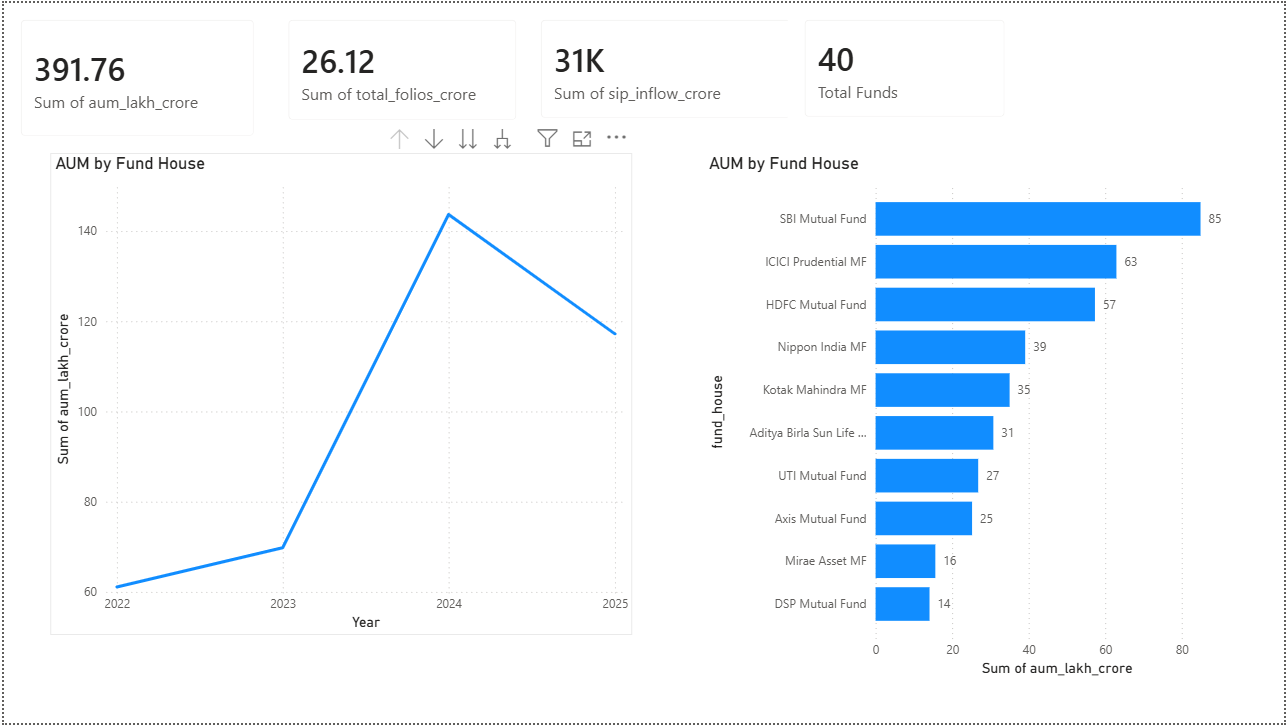

What the dashboard file says about the page in this screenshot:
{"tool":"powerbi","page":{"name":"Industry Overview","canvas":[1280,720],"ordinal":0},"visuals":[{"type":"cardVisual","fields":{"Data":["Sum(03_aum_by_fund_house.aum_lakh_crore)"]},"box":[0,0,267.1,150],"z":0},{"type":"cardVisual","fields":{"Data":["Sum(04_monthly_sip_inflows.sip_inflow_crore)"]},"box":[520,0,284.3,132.9],"z":1000},{"type":"cardVisual","fields":{"Data":["Sum(06_industry_folio_count.total_folios_crore)"]},"box":[267.1,0,262.9,134.3],"z":2000},{"type":"cardVisual","fields":{"Data":["Count(01_fund_master.scheme_name)"]},"box":[784.3,0,234.3,131.4],"z":3000},{"type":"lineChart","title":"AUM by Fund House","fields":{"Category":["03_aum_by_fund_house.date.Variation.Date Hierarchy.Year","03_aum_by_fund_house.date.Variation.Date Hierarchy.Quarter","03_aum_by_fund_house.date.Variation.Date Hierarchy.Month","03_aum_by_fund_house.date.Variation.Date Hierarchy.Day"],"Y":["Sum(03_aum_by_fund_house.aum_lakh_crore)"]},"box":[45.7,150,582.9,482.9],"z":4000},{"type":"clusteredBarChart","title":"AUM by Fund House","fields":{"Y":["Sum(03_aum_by_fund_house.aum_lakh_crore)"],"Category":["03_aum_by_fund_house.fund_house"]},"box":[700,150,547.1,528.6],"z":5000}]}

Visuals, with their boxes in screenshot pixels (x1, y1, x2, y2), scaled from the page's 1280x720 canvas onto the 1287x727 screenshot:
cardVisual - Sum(03_aum_by_fund_house.aum_lakh_crore): (0,0,269,151)
cardVisual - Sum(04_monthly_sip_inflows.sip_inflow_crore): (523,0,809,134)
cardVisual - Sum(06_industry_folio_count.total_folios_crore): (269,0,533,136)
cardVisual - Count(01_fund_master.scheme_name): (789,0,1024,133)
"AUM by Fund House" lineChart: (46,151,632,639)
"AUM by Fund House" clusteredBarChart: (704,151,1254,685)
